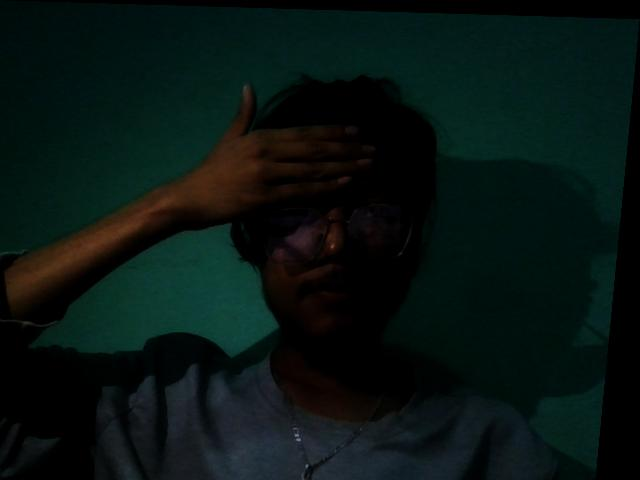forget: (170, 69, 403, 239)
